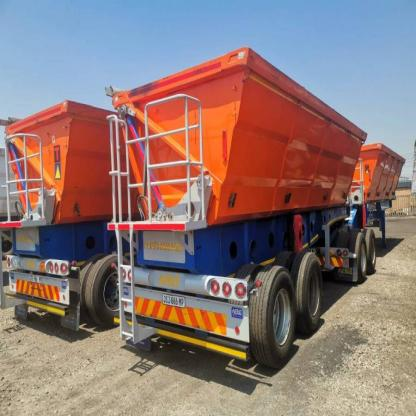dump_truck: (102, 50, 413, 365)
